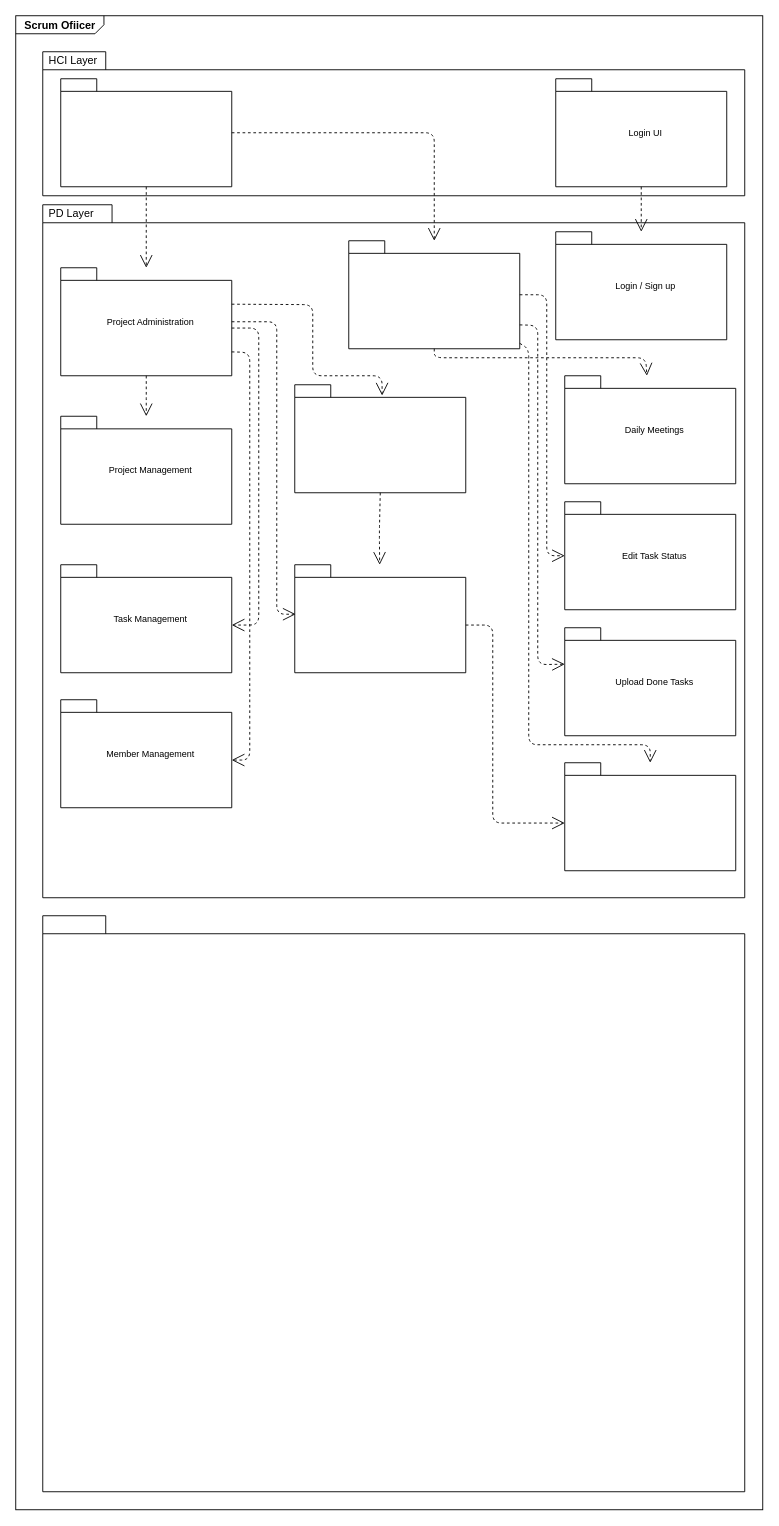
Some shapes in this 779 by 1526 pixel diagram are drawn without their labels. Here are the shapes that lost their labels. From the top down, the centre of each, then its label:
At (x=146, y=132): "App UI".
At (x=434, y=294): "Project Collaboration".
At (x=380, y=438): "Sprint Management".
At (x=380, y=618): "Management Reports".
At (x=650, y=816): "User Reports".
At (x=393, y=1203): "DM Layer".
